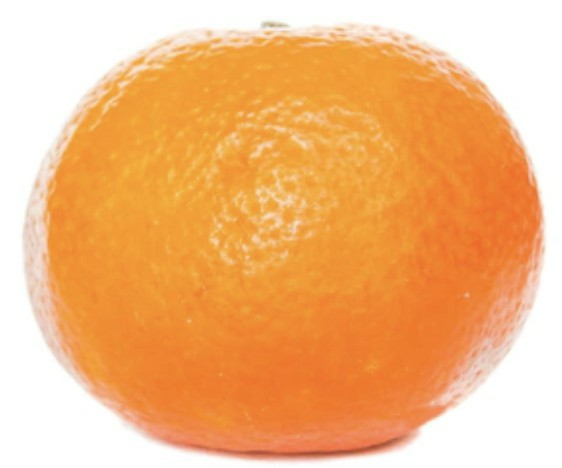fresh_orange: (25, 25, 551, 457)
